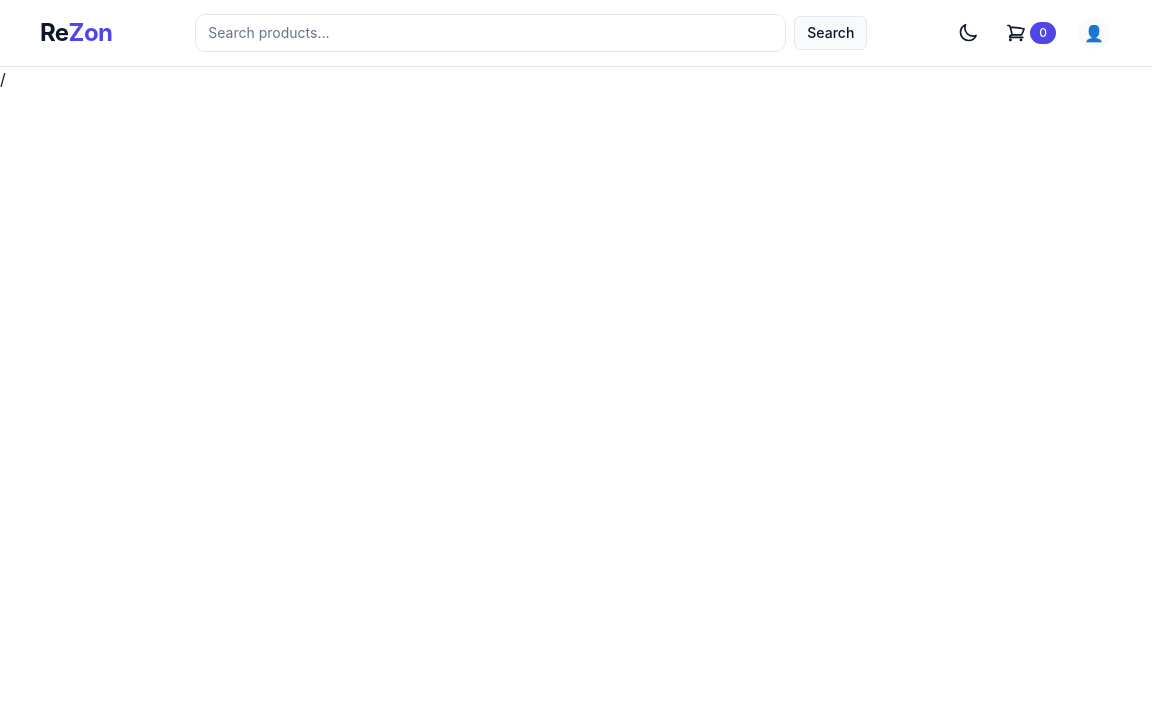
Test case: Header › toggles dark and light mode via the sun/moon icon switch near Cart
Click the button named "switch to dark mode" at (968, 33), box top-left (950, 15), bottom-right (986, 51)
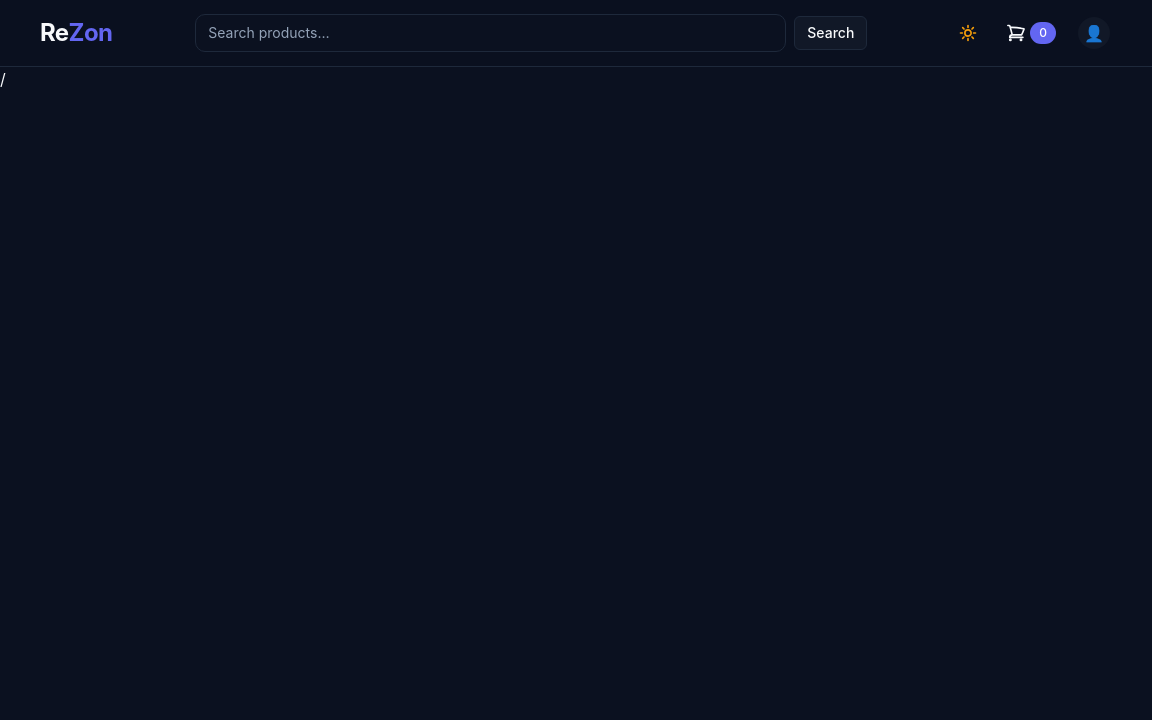
expect the button named "switch to light mode" is pressed: met, box top-left (950, 15), bottom-right (986, 51)
